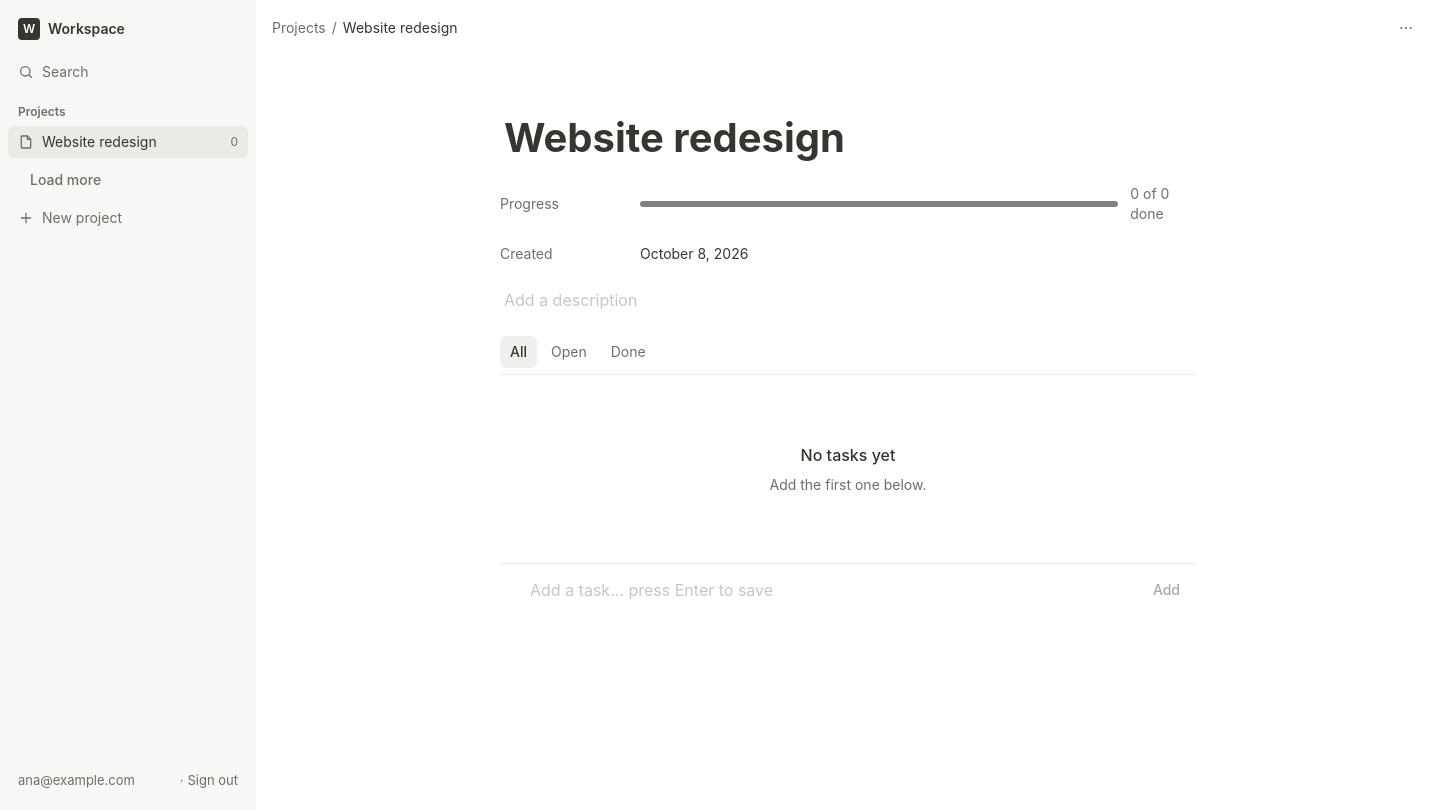
Test: sidebar pagination › appends the next page of projects when Load more is clicked
This screenshot has width=1440, height=810.
Expected: the text "Website redesign" below "Workspace" is shown, [42,133,157,150]
Expected: the text "Mobile onboarding" is not shown
Click the button "Load more" at (66, 180), box [18,164,113,196]
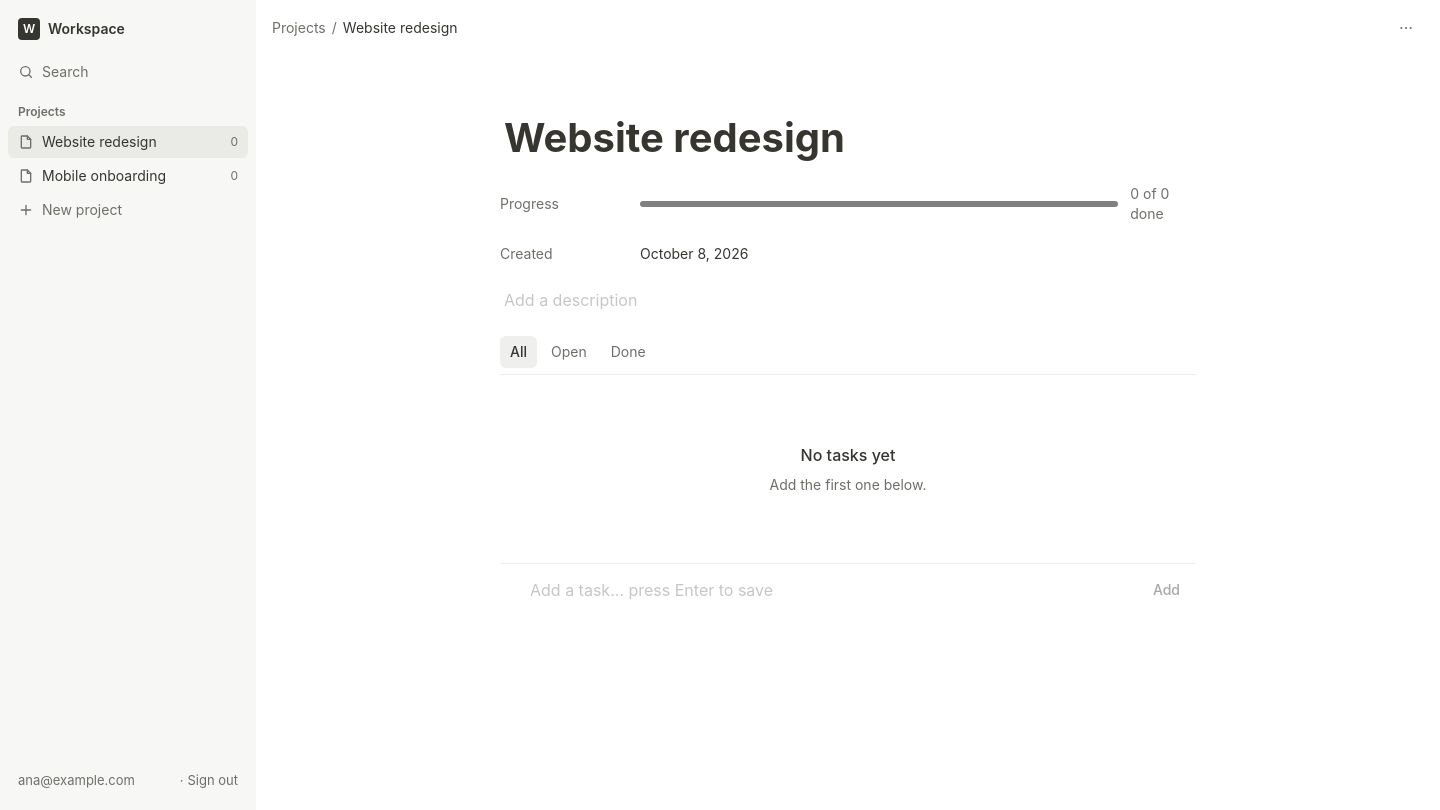
Expected: the text "Website redesign" below "Workspace" is shown, [42,133,157,150]
Result: the text "Mobile onboarding" is shown at [42,167,166,184]
Result: the button "Load more" is gone
